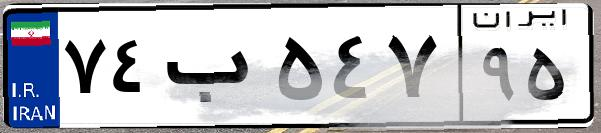4: (330, 28, 385, 110), (110, 28, 158, 98)
5: (270, 28, 330, 110), (525, 38, 570, 115)
7: (385, 28, 445, 110), (57, 26, 110, 100)
9: (475, 38, 525, 113)
ب: (158, 20, 270, 120)
